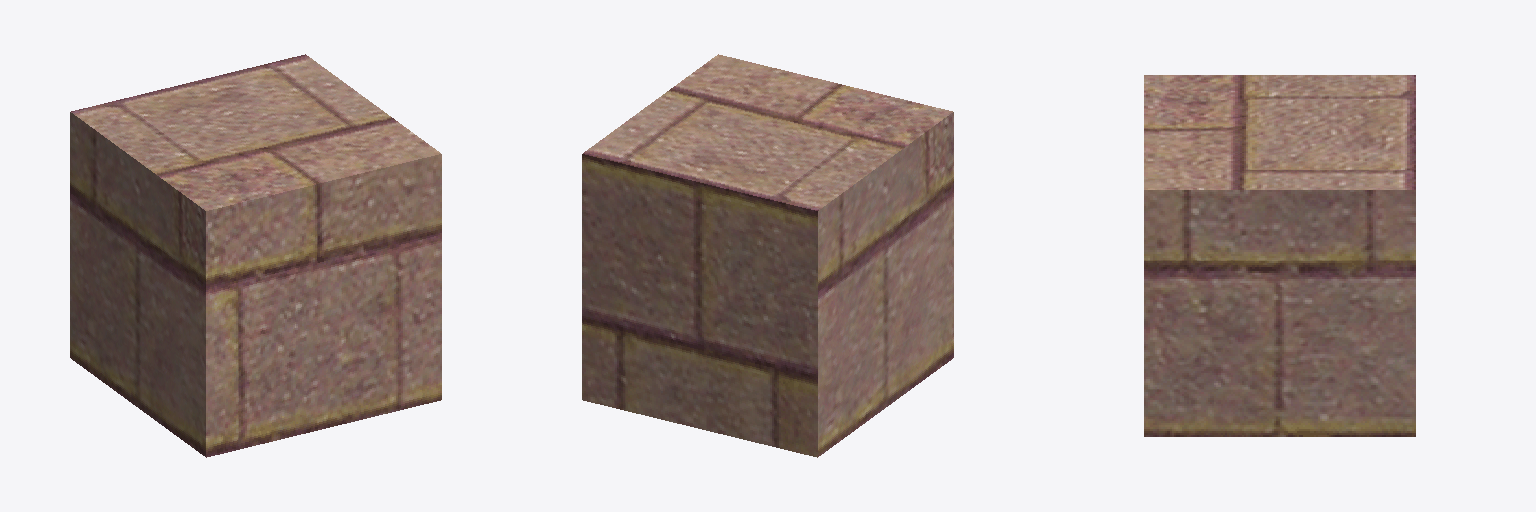
The picture shows the model from 3 angles: view 1: azimuth 30°, elevation 25°; view 2: azimuth 150°, elevation 25°; view 3: azimuth 270°, elevation 25°; orthographic projection.
Parts seen in each view (by area): view 1: pCube1; view 2: pCube1; view 3: pCube1.
Part boxes in pixels (bbox=[...]): pCube1: bbox=[70, 54, 441, 457]; pCube1: bbox=[582, 54, 953, 457]; pCube1: bbox=[1144, 75, 1415, 436].
Bounding box in the file's own units: 1 × 1 × 1.
1 materials, 1 textured.